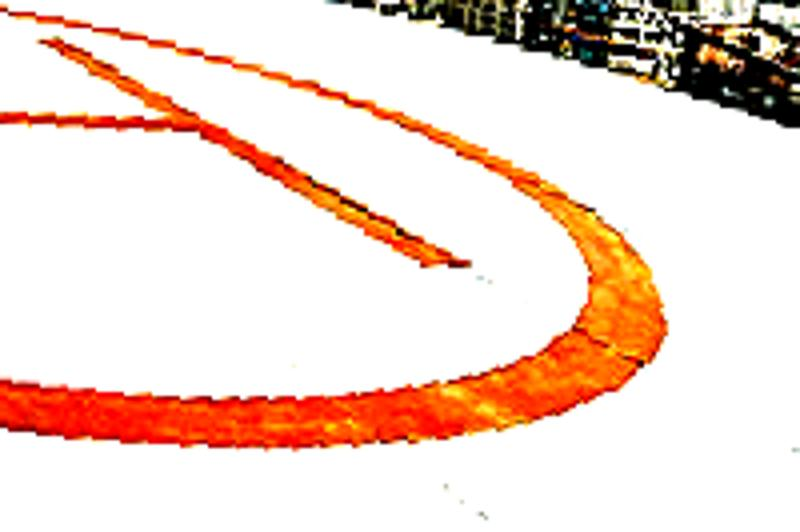Apron: (1, 1, 674, 460)
